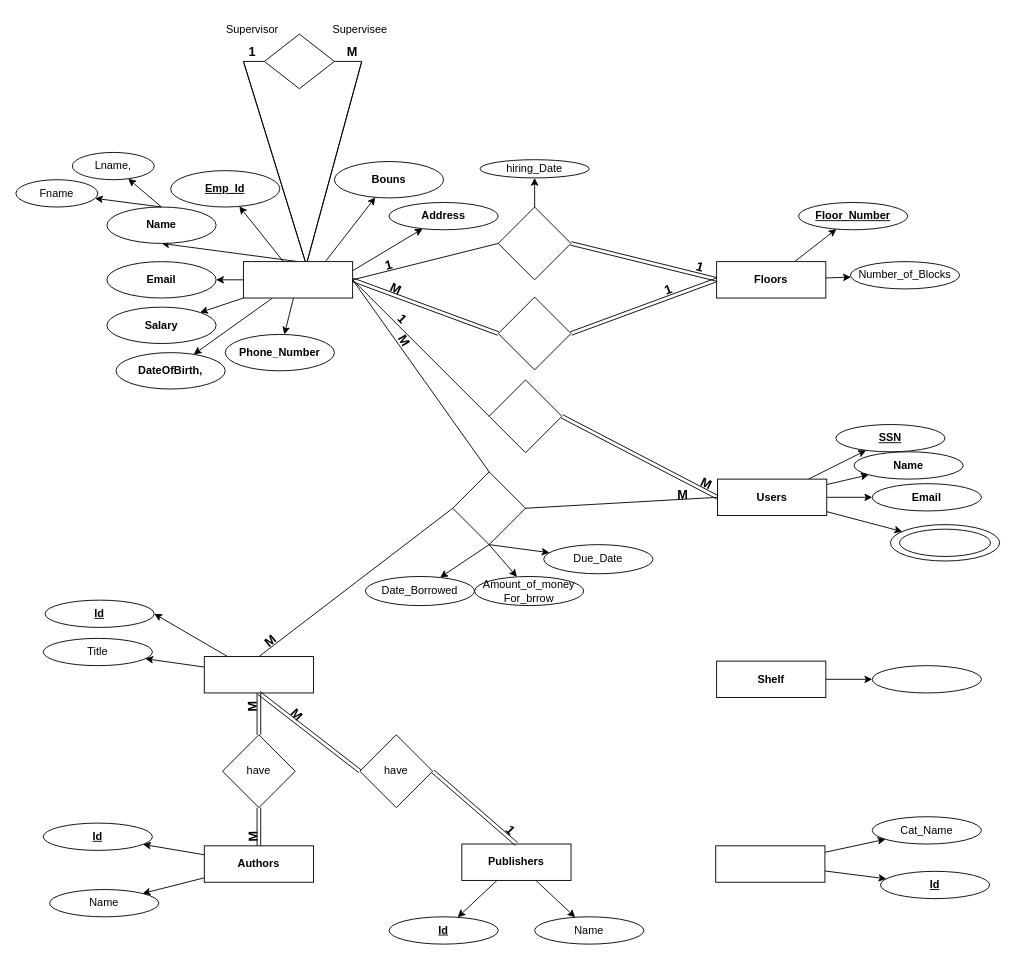
This 1016x960 diagram has some shape labels left out. Here are the shapes that lost their labels. From the top down, the centre of each, then its label:
(298,61): Supervise
(534,243): mange
(298,279): Employees
(534,333): work_on
(525,416): record_user data
(489,508): borrow_data
(945,542): Phones
(258,674): Books
(926,679): Code
(770,863): Categories
